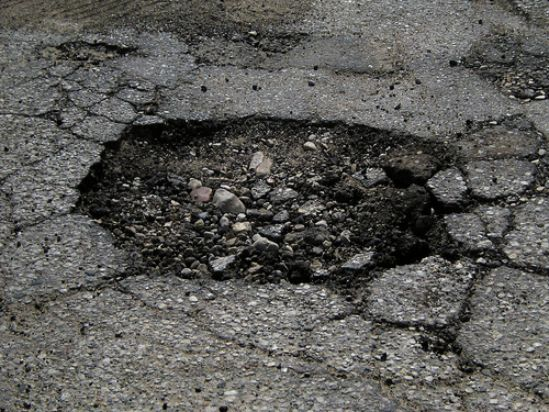pothole: (64, 112, 474, 306)
